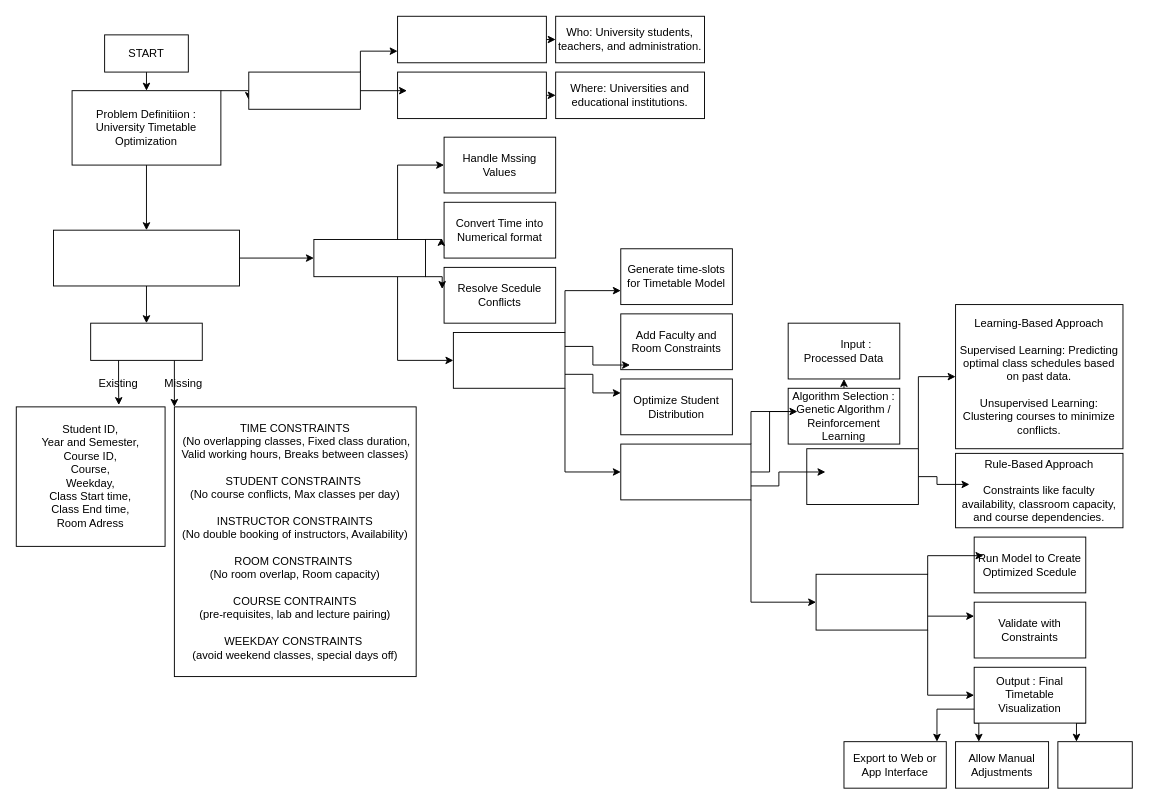
The diagram is 1149 pixels wide and 804 high, and some of its shapes have lost their labels. The shapes that lost their labels are listed below. From the top down, each one's centre as x and y in pixels, then its label:
At point (471, 39): "What: Automating timetable generation with AI.".
At point (304, 90): "Problem Scoping".
At point (471, 95): "Why: Manual timetabling is inefficient, time-consuming, and error-prone.".
At point (146, 257): "Data Collection : Student’s Timetable – University of Brazilia Dataset".
At point (369, 258): "Data Processing".
At point (146, 341): "Dataset Features".
At point (508, 360): "Feature Engineering".
At point (685, 471): "AI Model Training : Optimization Algorithms".
At point (862, 476): "Modelling".
At point (871, 601): "Inference : Generate Timetable".
At point (1094, 764): "END".
